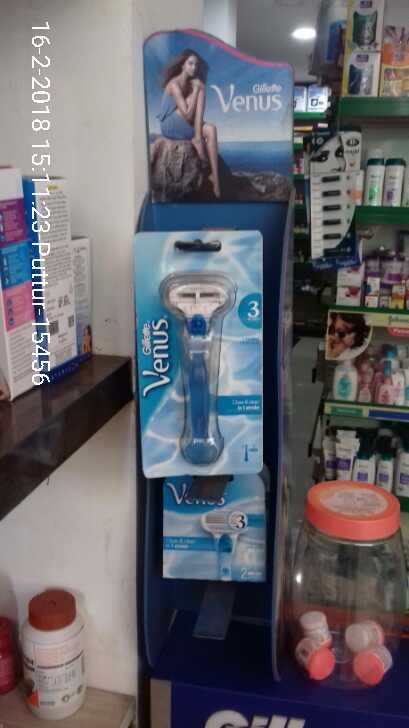venus: (133, 231, 267, 472), (160, 477, 272, 584)
